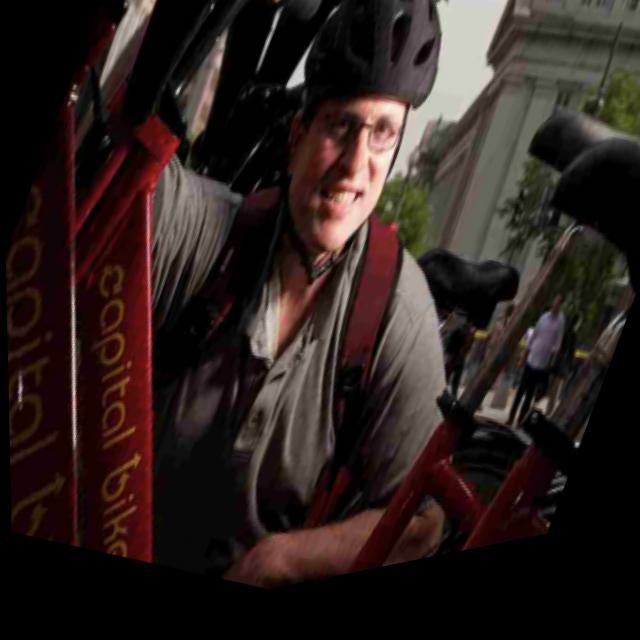Helmet: (282, 0, 448, 266)
